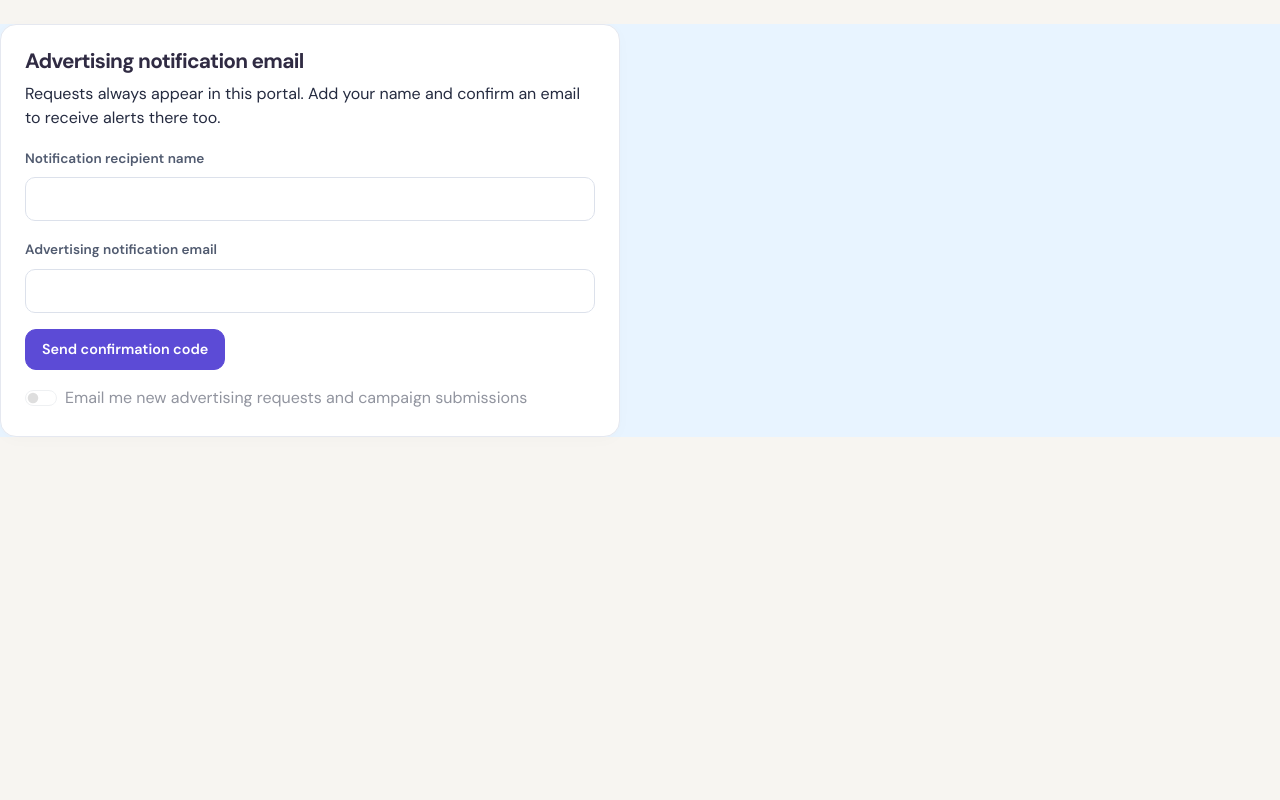
Test: requires a confirmation code before enabling advertising email alerts
Expected: the checkbox labelled "Email me new advertising requests and campaign submissions" is disabled, [25,390,57,406]
Expected: the checkbox labelled "Email me new advertising requests and campaign submissions" is not checked, [25,390,57,406]
Type "Sandra" into the field labelled "Notification recipient name".
click(310, 199); type("Sandra")  # box [25,177,595,221]
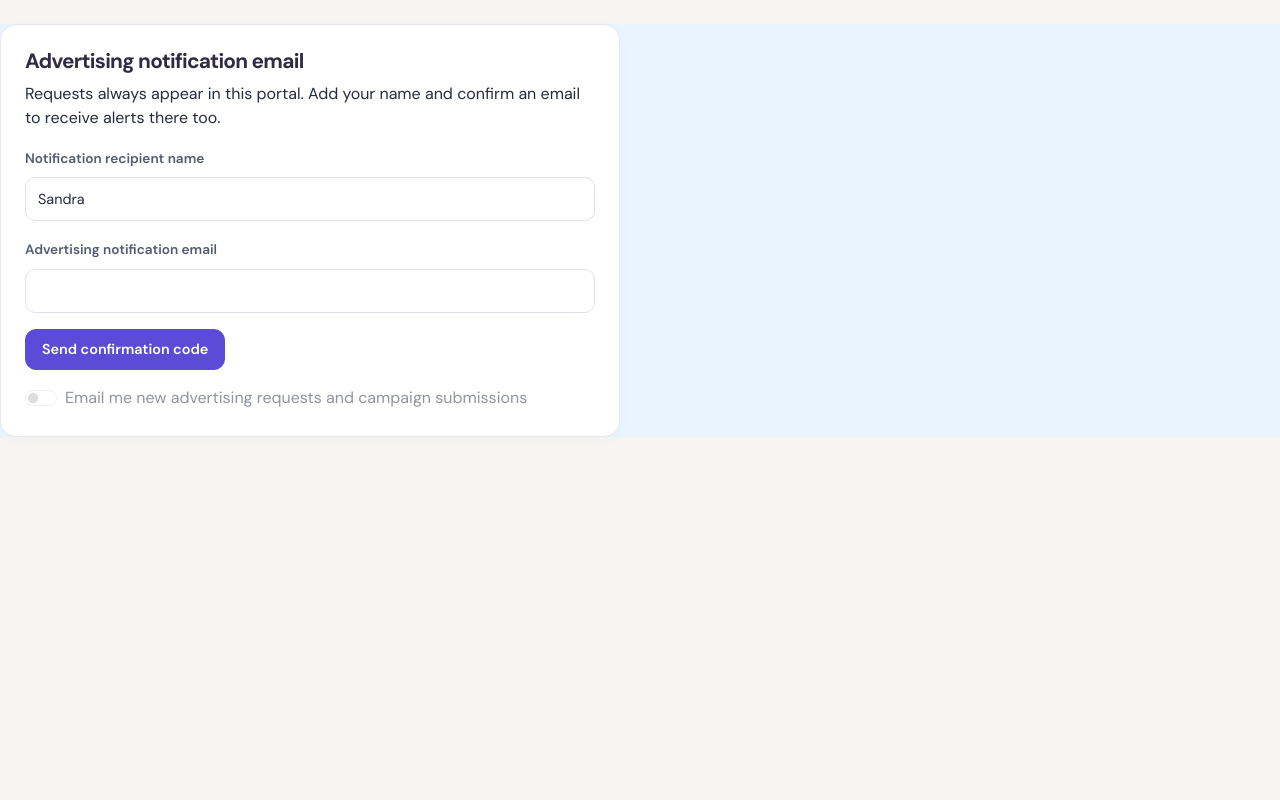
Type "alerts@example.com" into the field labelled "Advertising notification email".
click(310, 291); type("alerts@example.com")  # box [25,269,595,313]
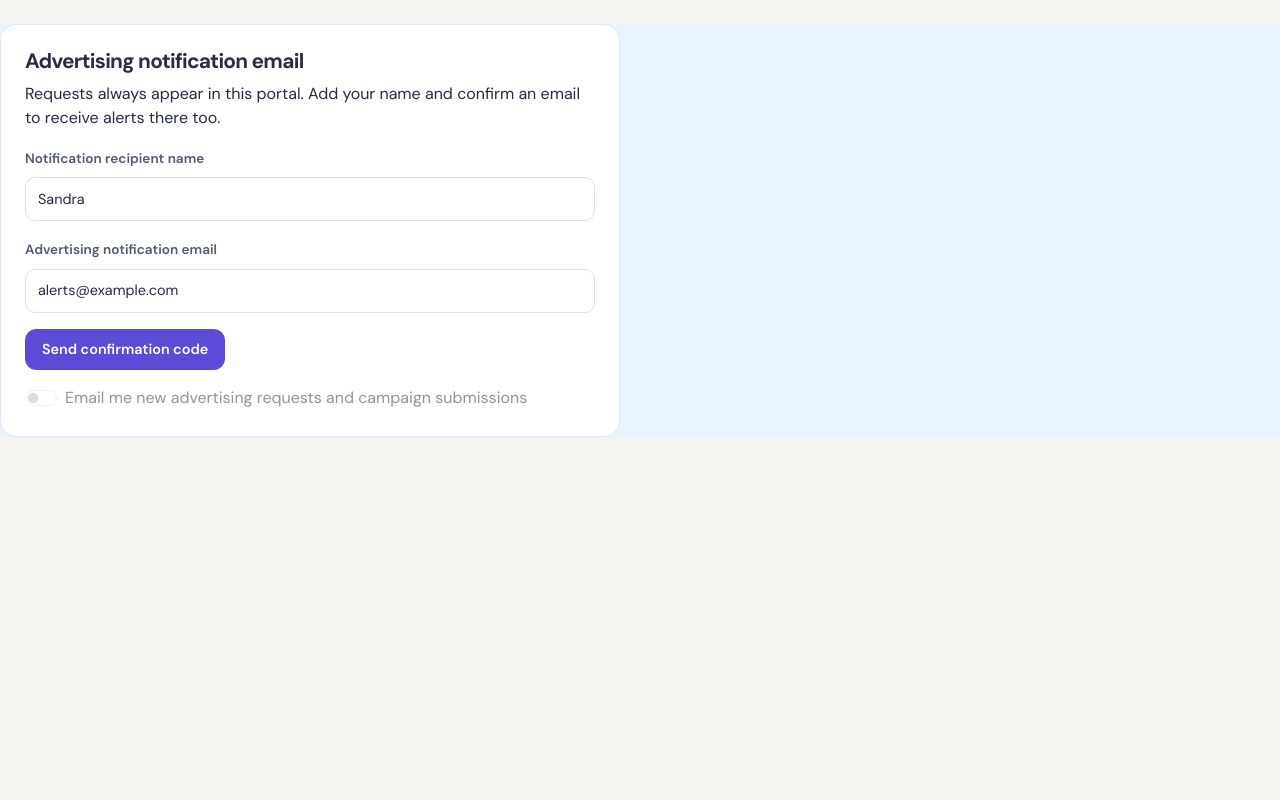
Click the button "Send confirmation code".
click(125, 349)  # box [25,329,225,370]
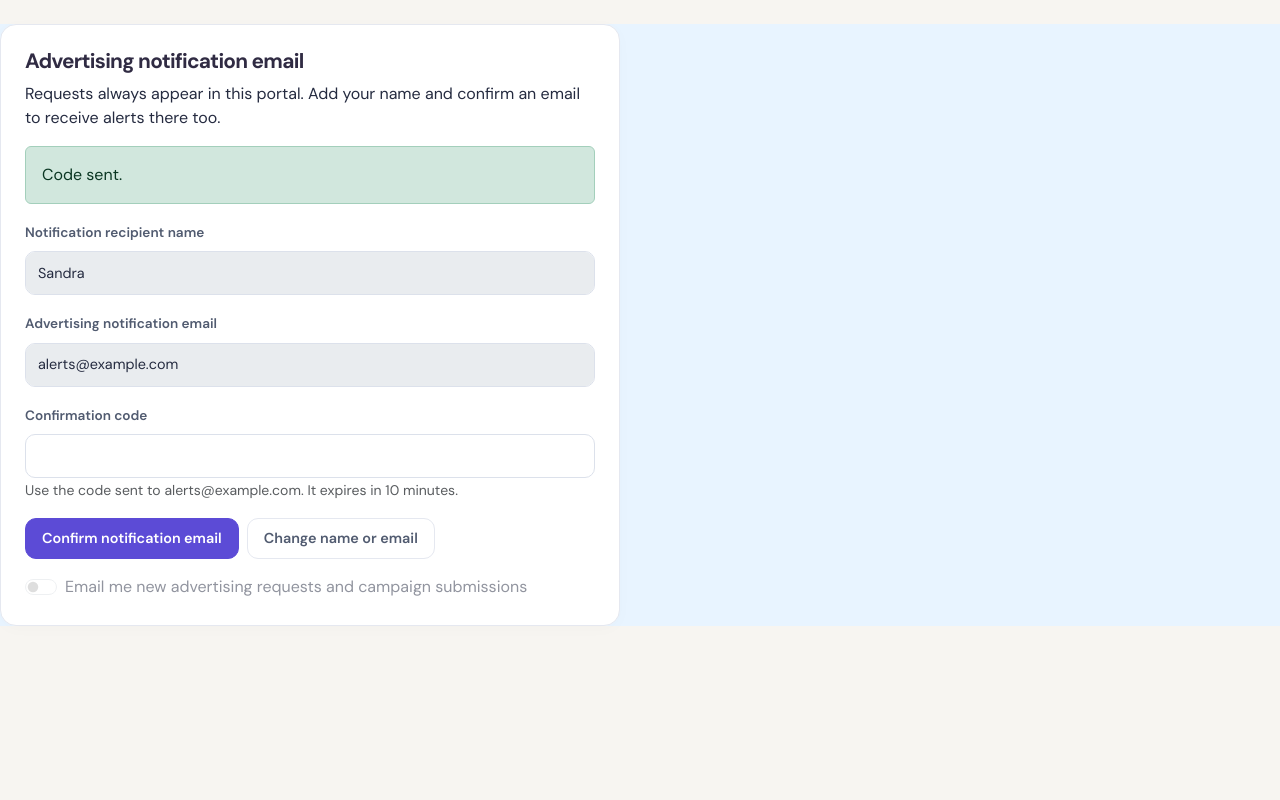
Type "123456" into the field labelled "Confirmation code".
click(310, 456); type("123456")  # box [25,434,595,478]
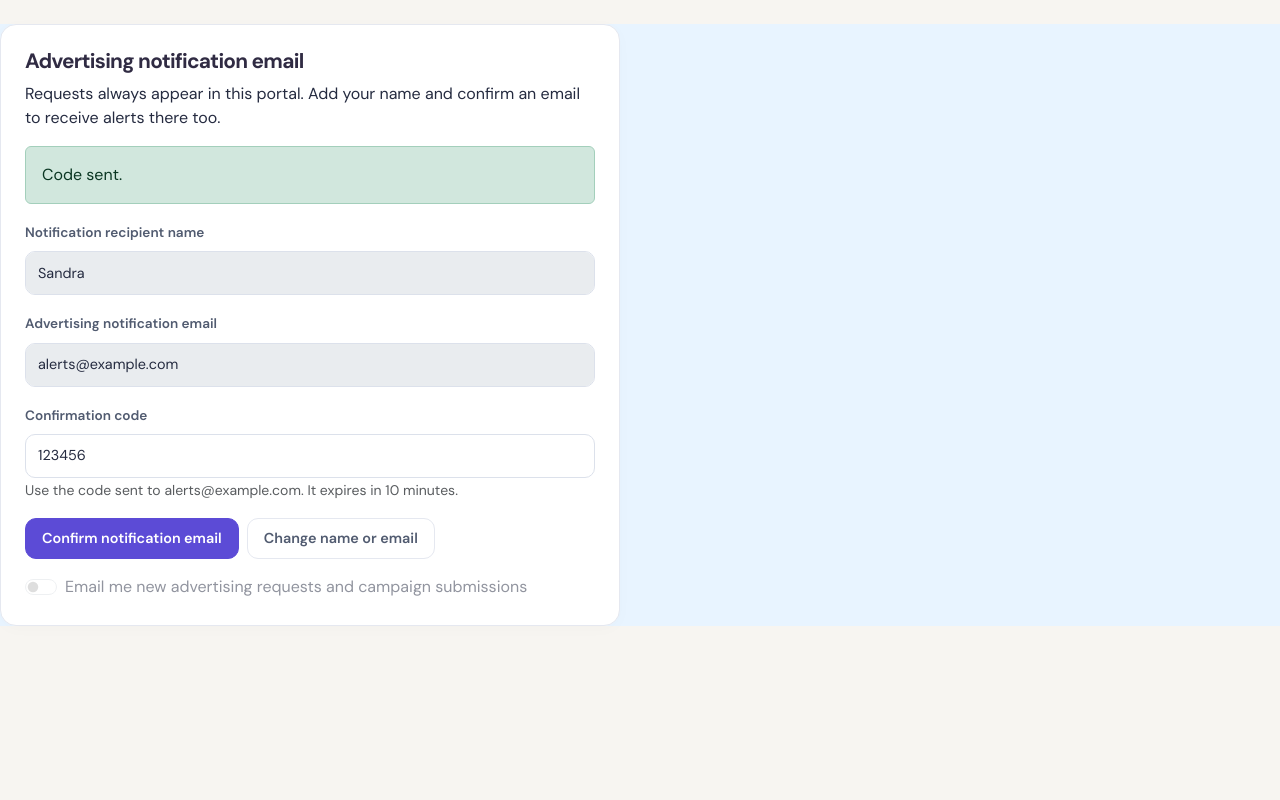
Expected: the checkbox labelled "Email me new advertising requests and campaign submissions" is not checked, [25,579,57,595]
Click the button "Confirm notification email".
click(132, 539)  # box [25,518,239,559]
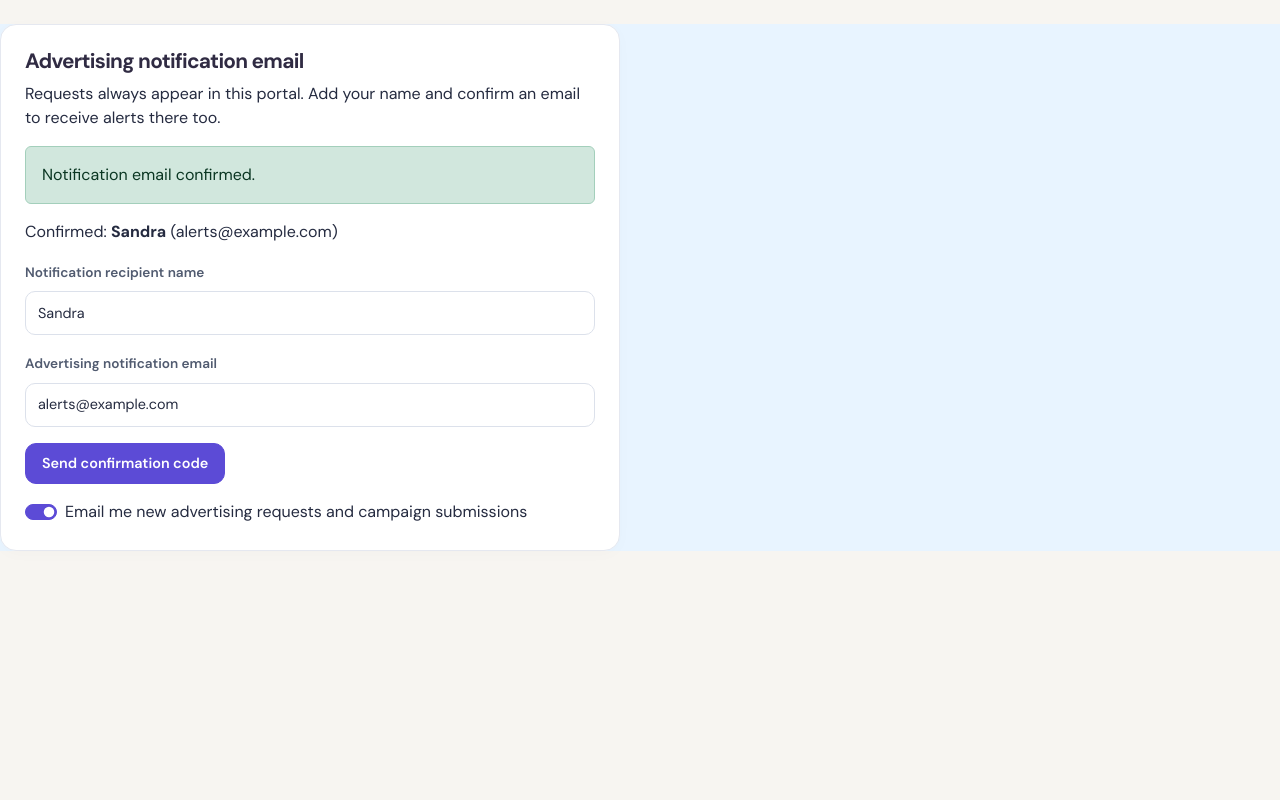
Expected: the text "Notification email confirmed." is shown, [25,146,595,204]
Expected: the checkbox labelled "Email me new advertising requests and campaign submissions" is checked, [25,504,57,520]
Expected: the checkbox labelled "Email me new advertising requests and campaign submissions" is enabled, [25,504,57,520]
